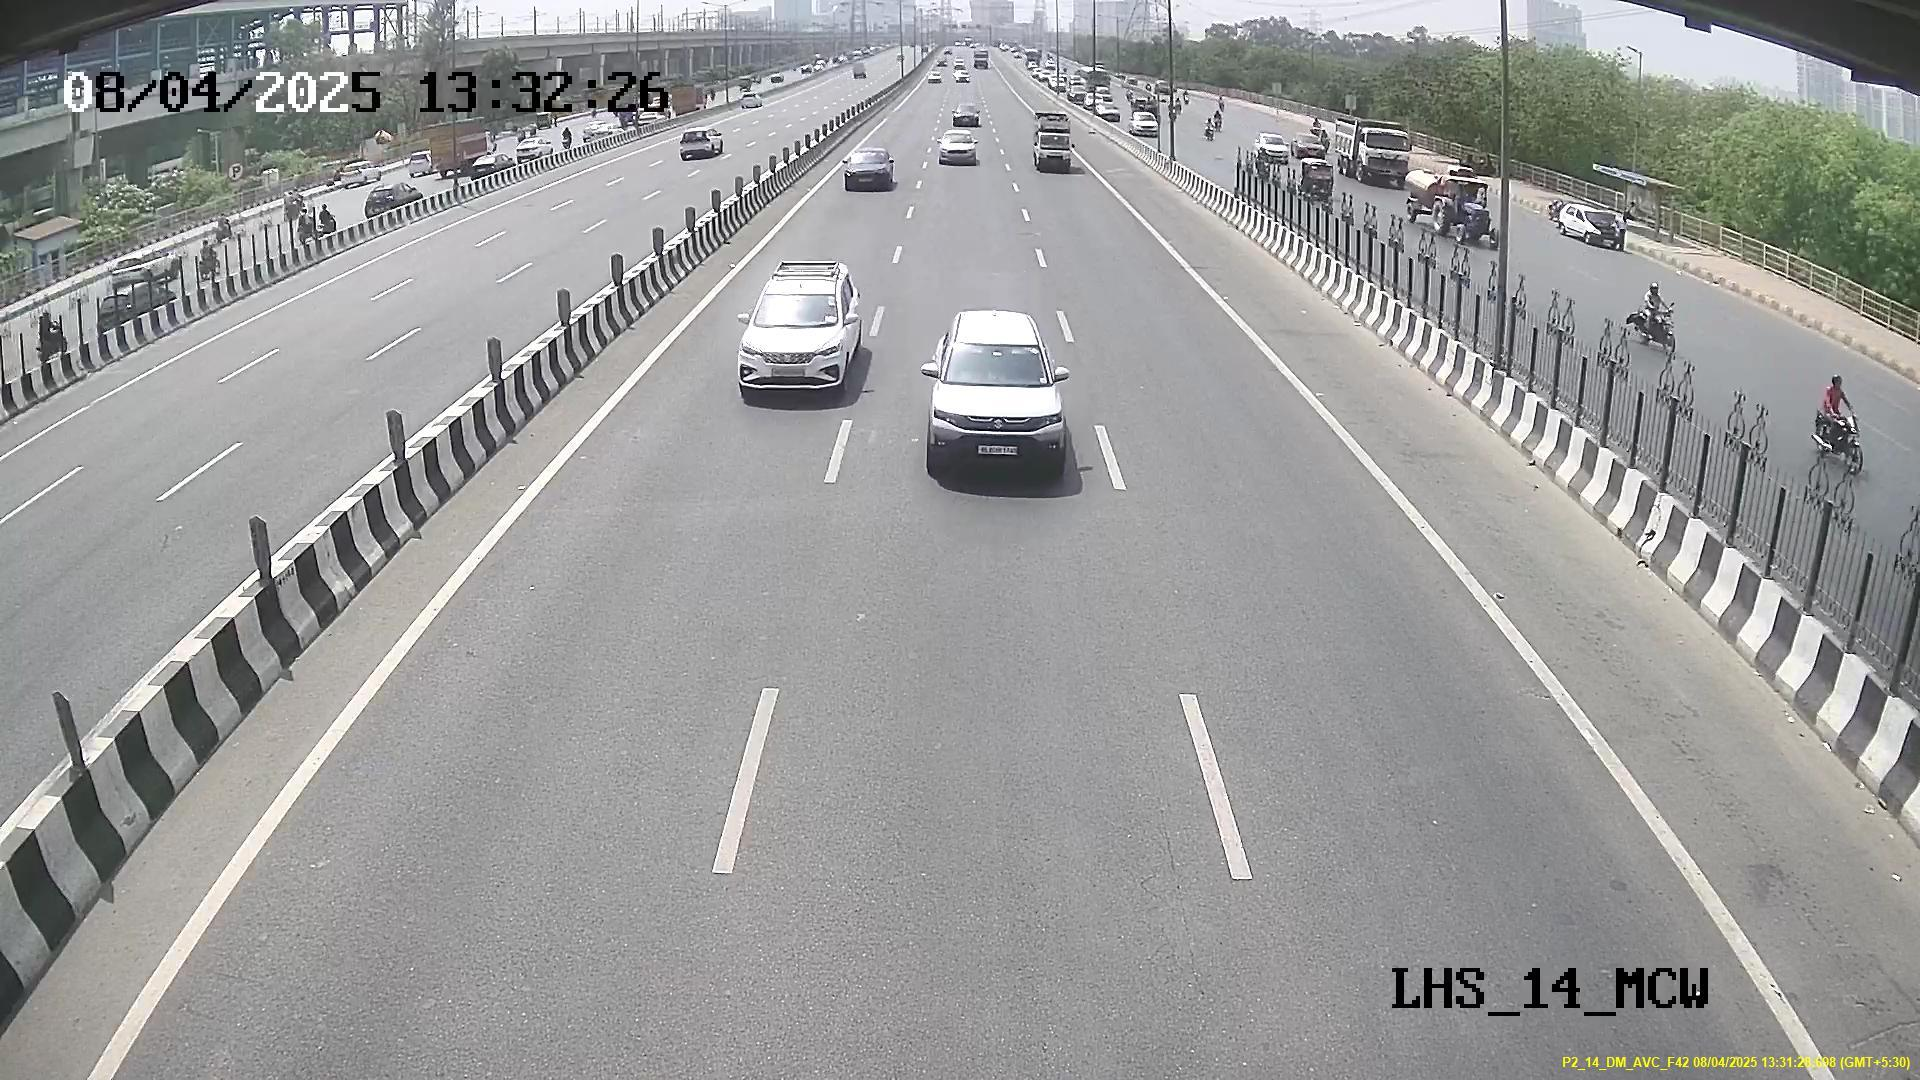car: (927, 315, 1072, 485), (732, 276, 858, 405)
